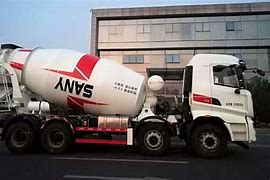specialcar: (2, 37, 250, 158)
